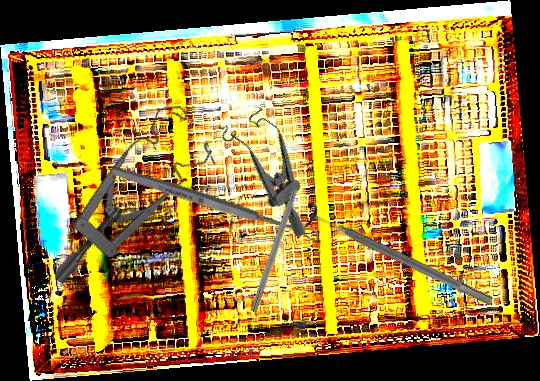Fixation Ring: (296, 199, 499, 317)
Hook Surgical: (249, 167, 308, 314)
Speculum: (9, 97, 236, 285), (208, 96, 343, 240)
Surgical Spoon: (109, 163, 321, 244)
